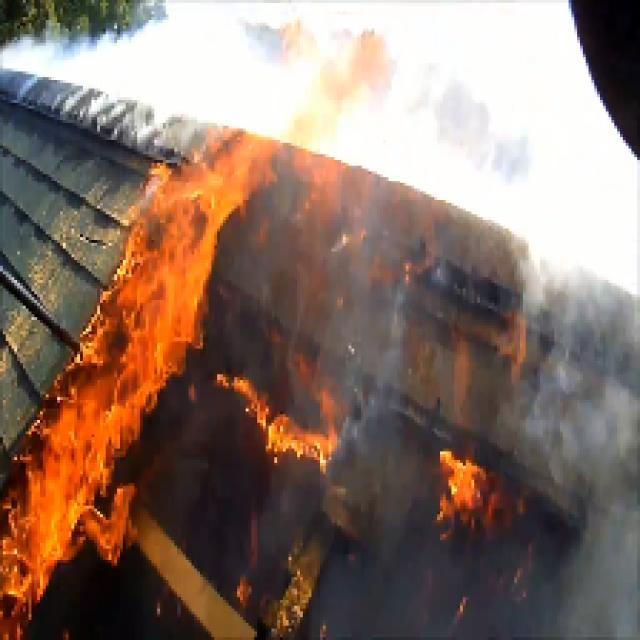Fire: (0, 370, 175, 591), (81, 150, 235, 368), (232, 384, 348, 461), (432, 439, 489, 532)
